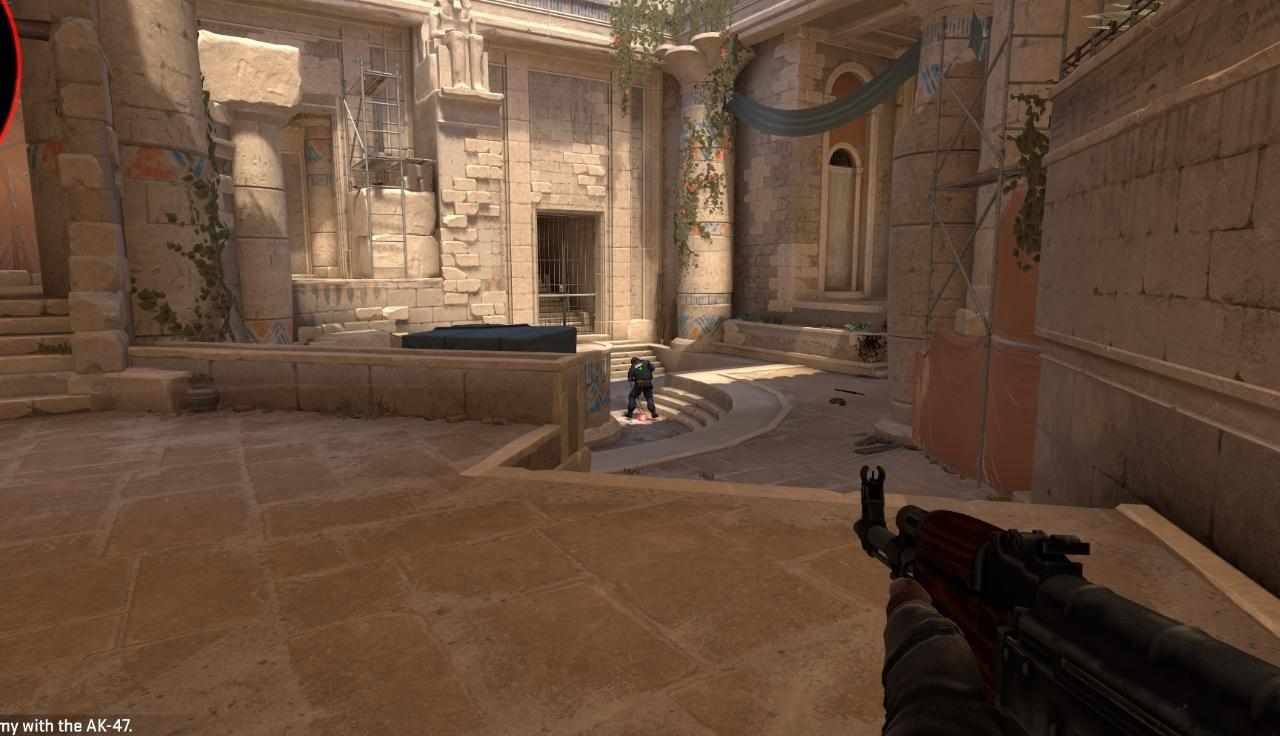ct: (628, 358, 653, 418)
rifle: (854, 465, 1280, 736)
